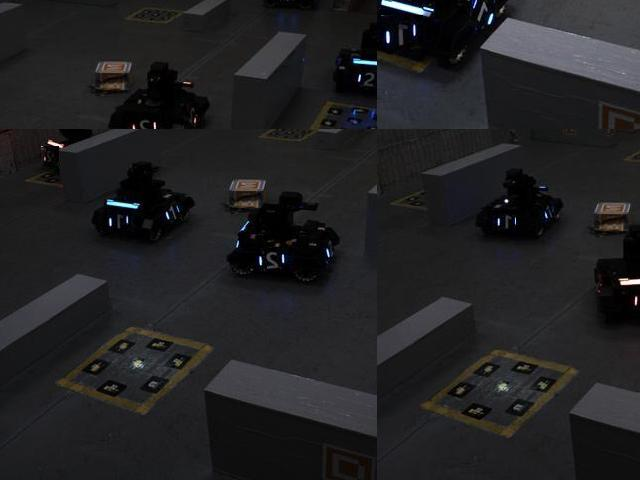armor: (381, 15, 424, 52), (257, 247, 291, 273), (470, 0, 497, 28), (108, 210, 133, 236), (160, 201, 185, 226), (496, 209, 518, 235), (353, 69, 376, 92), (184, 103, 204, 128), (128, 116, 163, 128), (42, 147, 61, 168), (628, 289, 639, 316), (278, 0, 300, 7)
